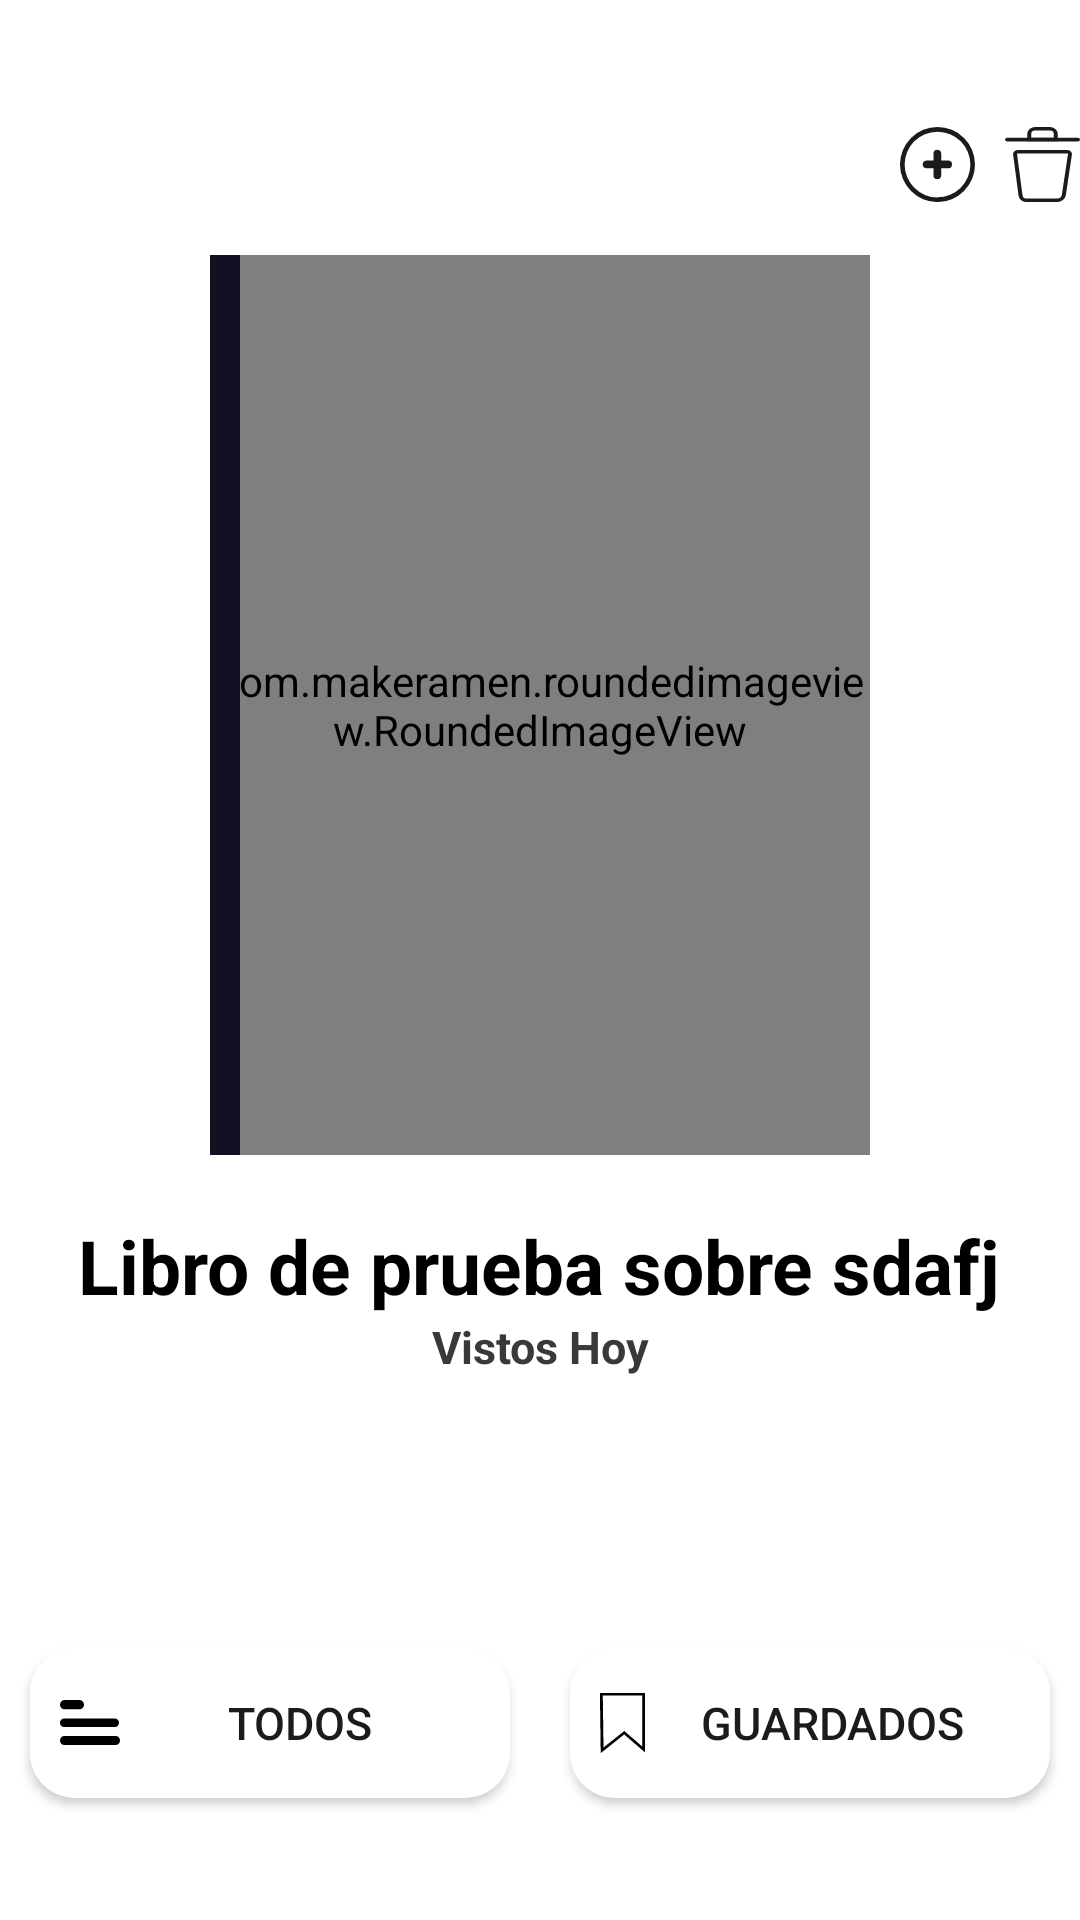

Locate icon controls on the screen. Image size 1080w x 1920h, boxes as BBox(x1, y1, x2, y2).
adddos: BBox(900, 127, 975, 202)
delete: BBox(1005, 127, 1080, 202)
